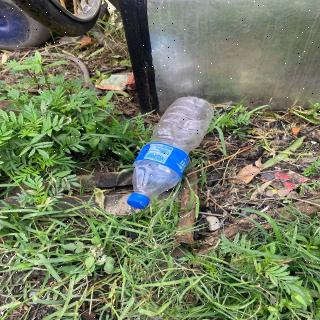Plastic-bottle: (126, 95, 218, 211)
